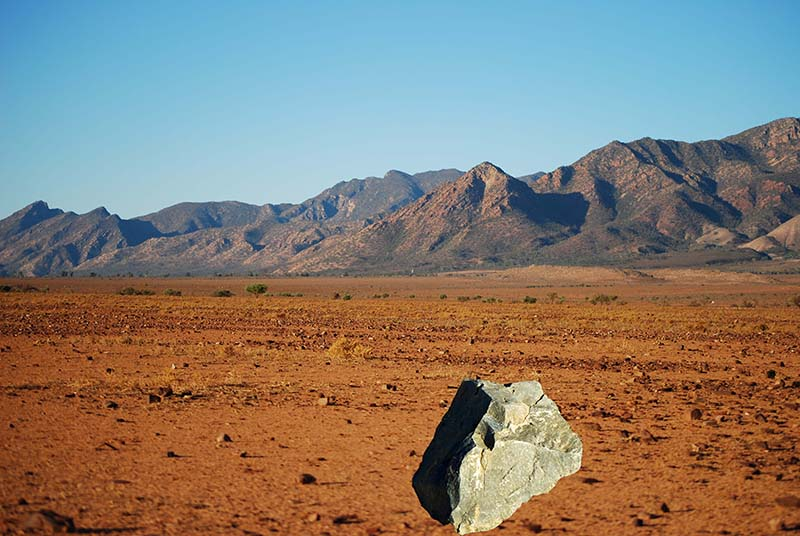Rocks: (409, 369, 586, 536)
